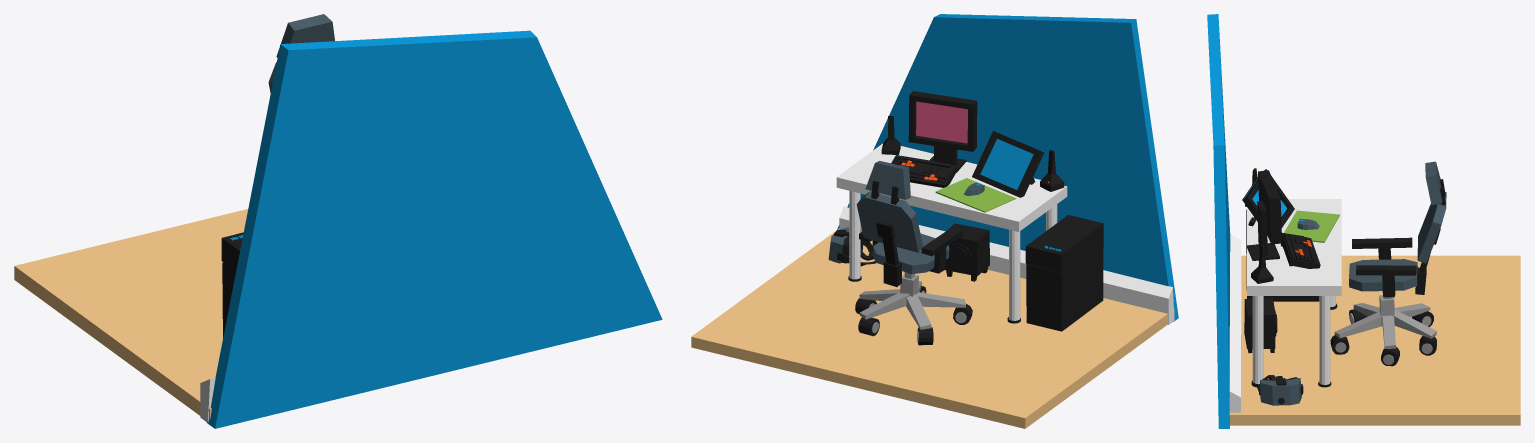
The model's file is Desk.gltf.
3 views of the same model, side by side, from view 1: azimuth 30°, elevation 25°; view 2: azimuth 150°, elevation 25°; view 3: azimuth 270°, elevation 25° (orthographic). The views are drawn at different scales.
Visible parts, largest first — view 1: group1851643174, group2028715552, group1667325453, group888398126; view 2: group2028715552, group1851643174, group888398126, group1983538, group81405755, group1349567328, group925625628, group1208538528, group431115471, group755938708, group782932201, group1667325453 (+9 smaller); view 3: group2028715552, group1851643174, group1983538, group1349567328, group81405755, group1394341533, group2046477336, group1208538528, group1716067366, group755938708, group2099217571, group925625628 (+13 smaller).
Part boxes in pixels (bbox=[...]): group1851643174: bbox=[206, 30, 662, 428]; group2028715552: bbox=[14, 209, 248, 419]; group1667325453: bbox=[276, 14, 334, 57]; group888398126: bbox=[221, 232, 243, 337]; group2028715552: bbox=[691, 228, 1174, 428]; group1851643174: bbox=[837, 14, 1178, 321]; group888398126: bbox=[1025, 215, 1103, 331]; group1983538: bbox=[836, 143, 1067, 231]; group81405755: bbox=[908, 91, 977, 172]; group1349567328: bbox=[839, 206, 1174, 324]; group925625628: bbox=[856, 191, 922, 252]; group1208538528: bbox=[945, 223, 989, 281]; group431115471: bbox=[980, 131, 1043, 196]; group755938708: bbox=[891, 155, 957, 187]; group782932201: bbox=[935, 178, 1016, 212]; group1667325453: bbox=[865, 161, 910, 199]; group2028715552: bbox=[1229, 255, 1520, 425]; group1851643174: bbox=[1207, 14, 1230, 428]; group1983538: bbox=[1247, 199, 1341, 295]; group1349567328: bbox=[1229, 234, 1241, 412]; group81405755: bbox=[1246, 170, 1282, 260]; group1394341533: bbox=[1349, 259, 1417, 291]; group2046477336: bbox=[1257, 375, 1303, 405]; group1208538528: bbox=[1244, 298, 1277, 353]; group1716067366: bbox=[1319, 296, 1330, 384]; group755938708: bbox=[1281, 232, 1320, 268]; group2099217571: bbox=[1252, 296, 1263, 384]; group925625628: bbox=[1417, 192, 1446, 263].
Bounding box in the file's own units: 2.04 × 1.61 × 1.66.
